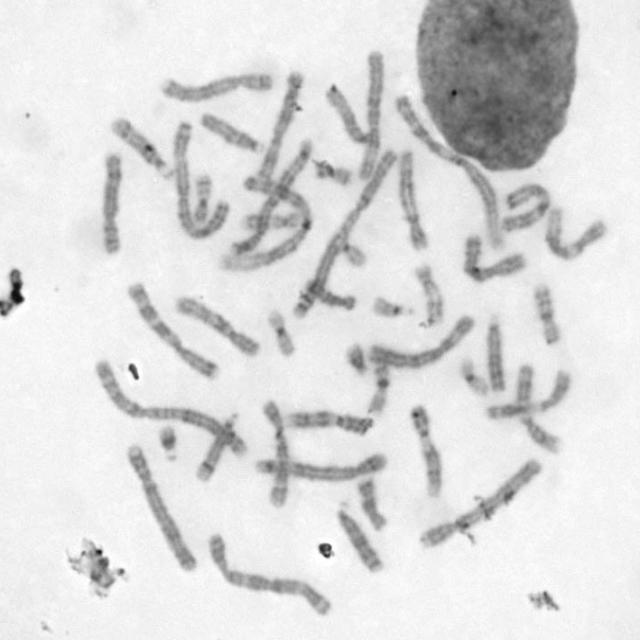A1: (390, 92, 507, 251), (213, 172, 314, 274)
A2: (289, 145, 399, 320), (92, 358, 250, 462)
A3: (204, 528, 336, 618), (173, 118, 231, 242)
B4: (414, 457, 542, 553), (127, 443, 200, 573)
B5: (228, 138, 314, 256), (254, 450, 392, 482)
C10: (175, 294, 263, 360), (261, 399, 291, 508)
C11: (512, 361, 566, 454), (484, 368, 574, 422)
C12: (542, 204, 608, 262), (397, 148, 429, 252)
C6: (367, 314, 475, 369), (357, 47, 389, 181)
C7: (126, 280, 221, 381), (500, 181, 552, 234)
C8: (159, 72, 272, 105), (98, 150, 126, 258)
C9: (406, 402, 443, 501), (282, 410, 376, 438)
D13: (335, 499, 384, 575), (484, 311, 507, 393)
D14: (109, 116, 175, 182), (195, 409, 241, 484)
D15: (323, 83, 371, 145), (199, 111, 267, 154)
E16: (530, 281, 565, 348), (364, 348, 392, 417)
E17: (413, 262, 445, 322), (239, 210, 305, 232)
E18: (302, 276, 358, 312), (355, 475, 389, 533)
F19: (266, 307, 298, 360), (457, 356, 489, 397)
F20: (189, 170, 215, 226), (312, 157, 355, 186)
G21: (157, 424, 182, 462), (344, 341, 370, 376)
G22: (370, 292, 414, 321), (332, 236, 368, 270)
X: (255, 68, 307, 184), (460, 228, 529, 285)
